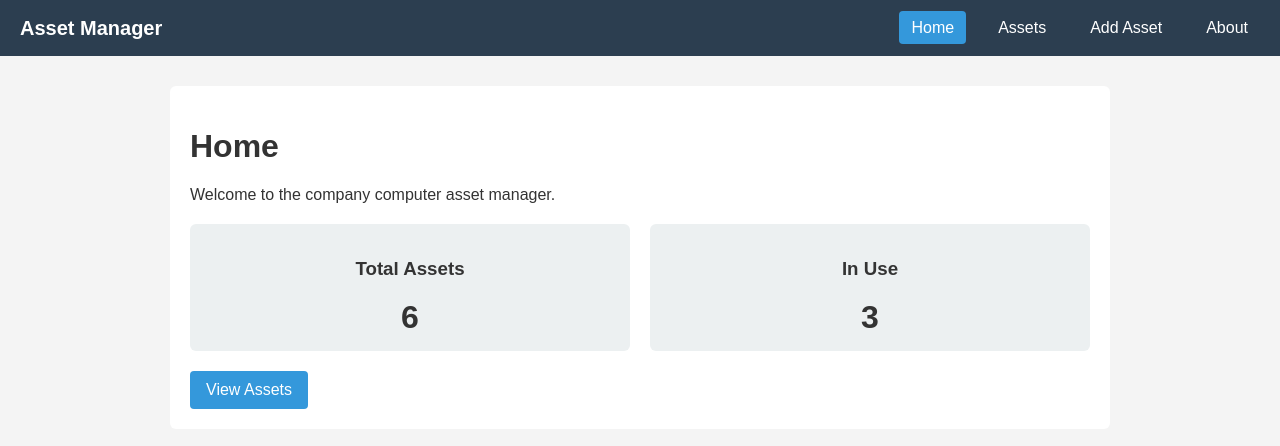
Scenario: Add Asset rejects duplicate serial numbers
Click the link "Add Asset".
click(1126, 28)  # box [1090, 19, 1162, 36]
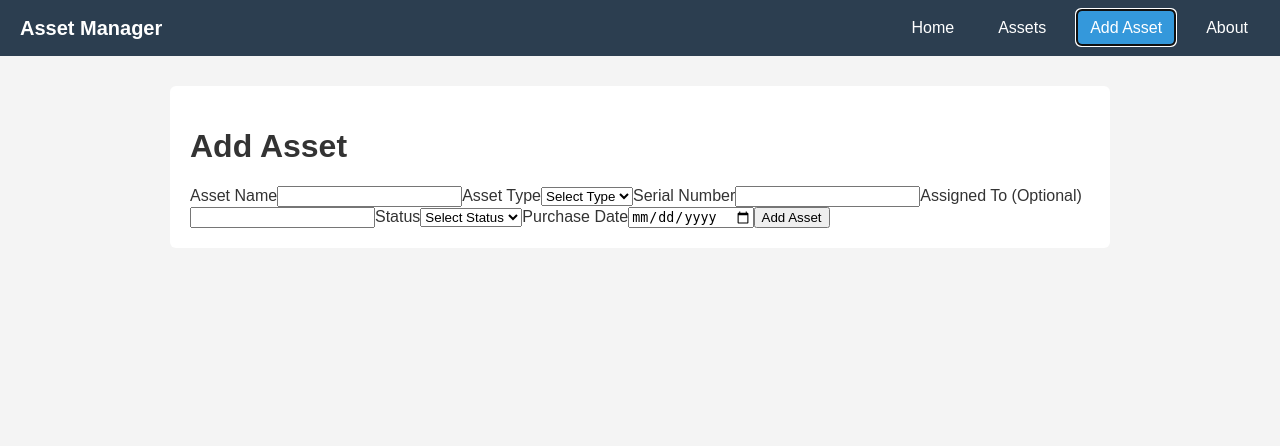
Type "Test Laptop" into the field labelled "Asset Name".
click(370, 197); type("Test Laptop")  # box [277, 186, 462, 207]
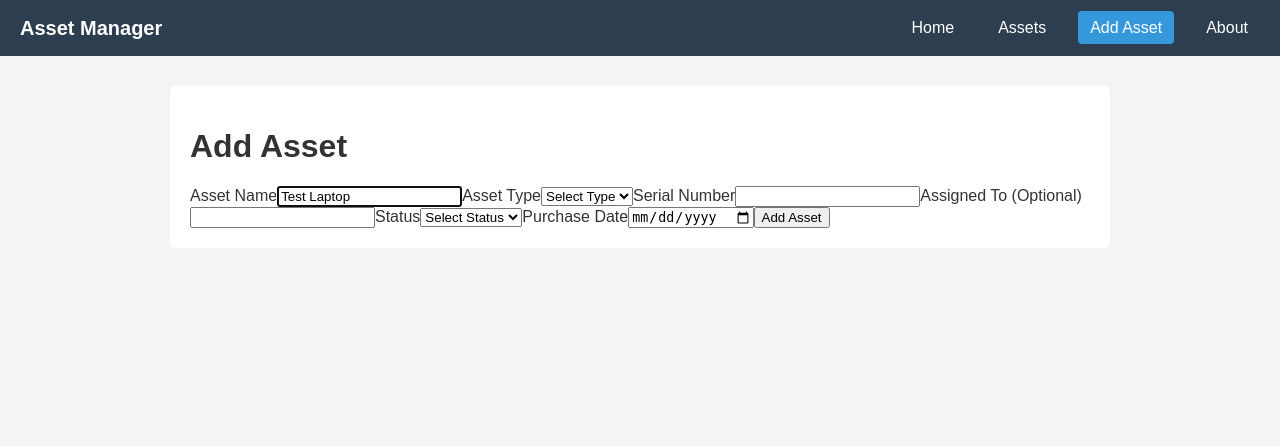
Select "Laptop" in the dropdown labelled "Asset Type" at (587, 197), box [541, 187, 633, 206]
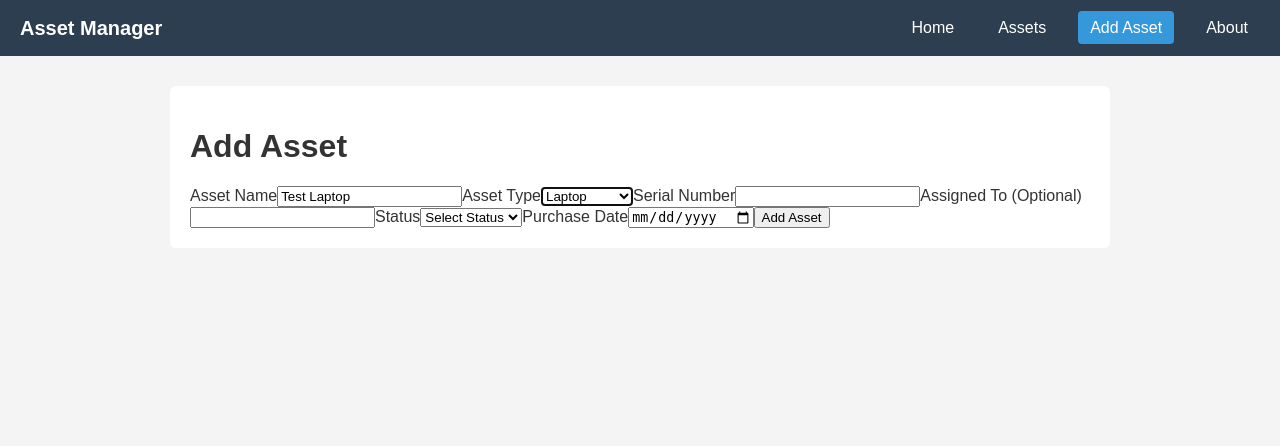
Type "DL5440-8XK21" into the field labelled "Serial Number".
click(828, 197); type("DL5440-8XK21")  # box [735, 186, 920, 207]
Select "In Stock" in the dropdown labelled "Status" at (471, 218), box [420, 208, 522, 227]
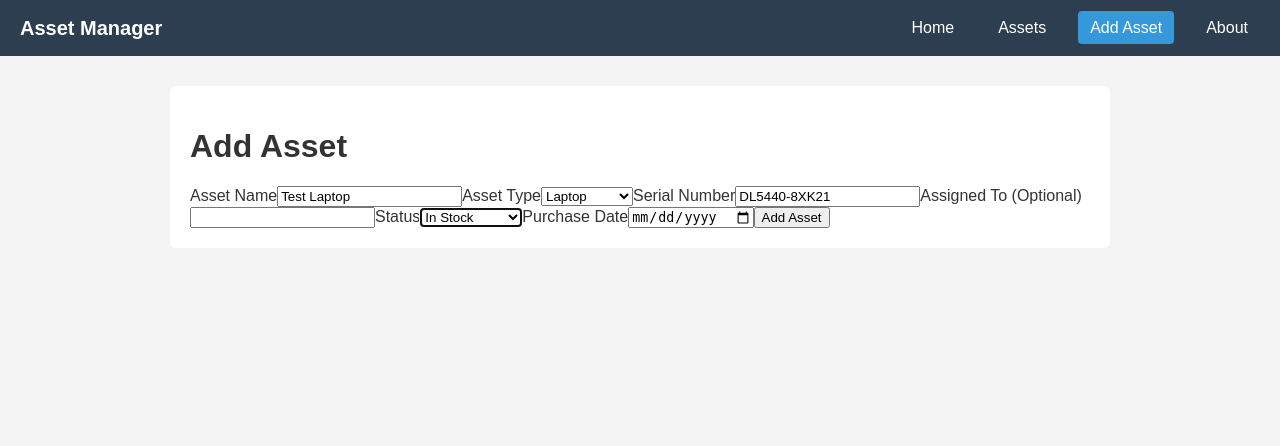
Type "2026-01-10" into the date field labelled "Purchase Date".
click(691, 218); type("2026-01-10")  # box [628, 207, 754, 228]
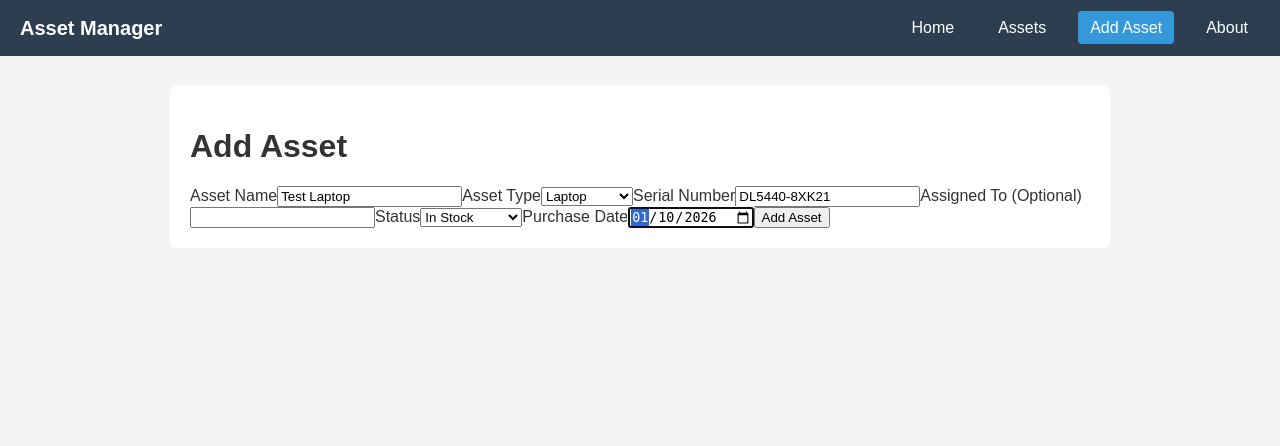
Click the button "Add Asset".
click(792, 218)  # box [754, 207, 830, 228]
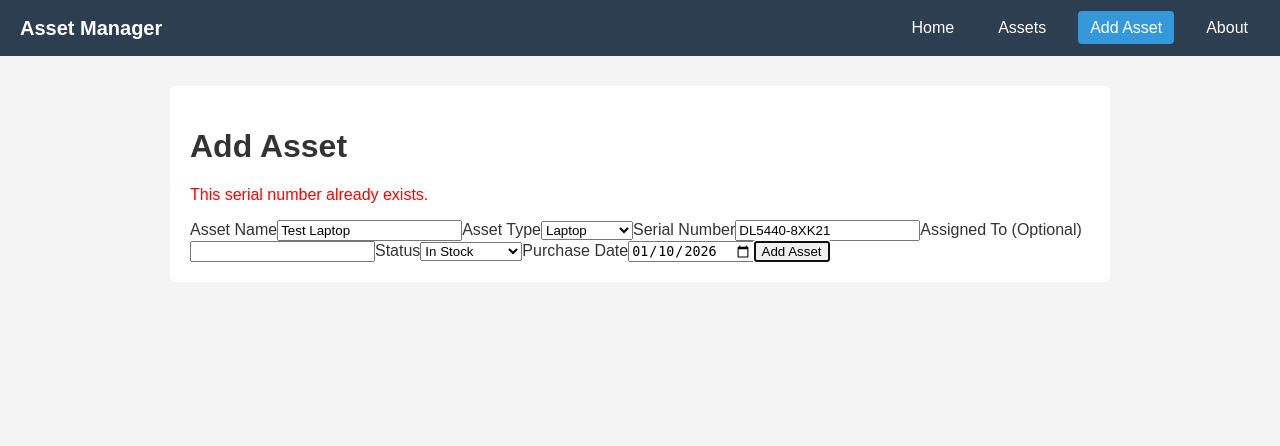
Now the message reads "This serial number already exists.", box [190, 186, 428, 203]
